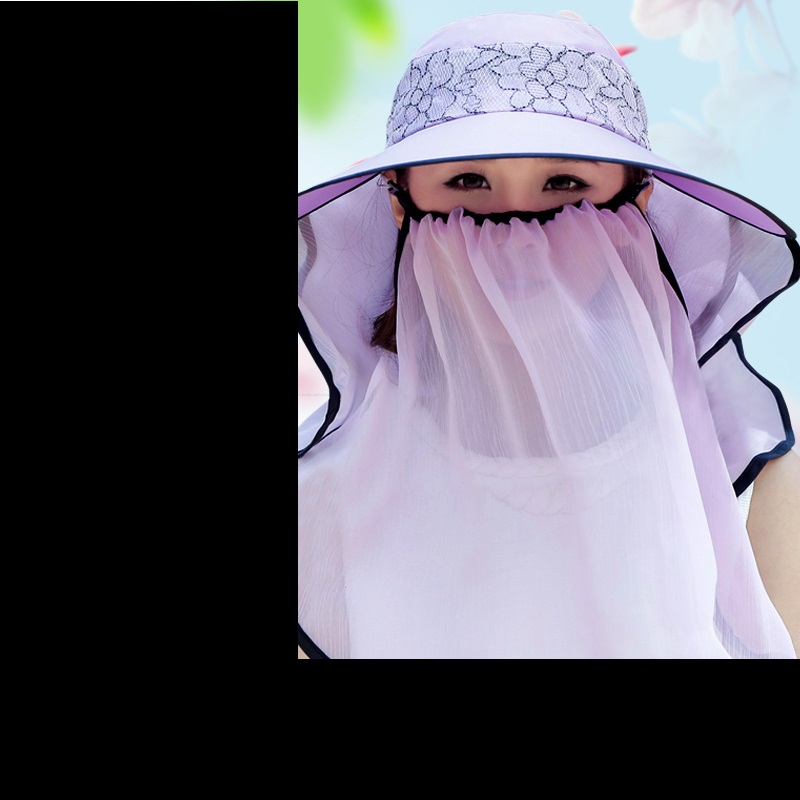face_mask: (411, 113, 621, 336)
